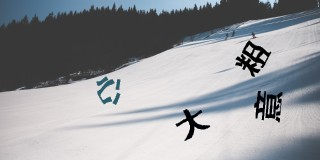大: (173, 106, 212, 141)
心: (94, 75, 124, 105)
意: (253, 90, 285, 124)
粗: (235, 39, 272, 78)
